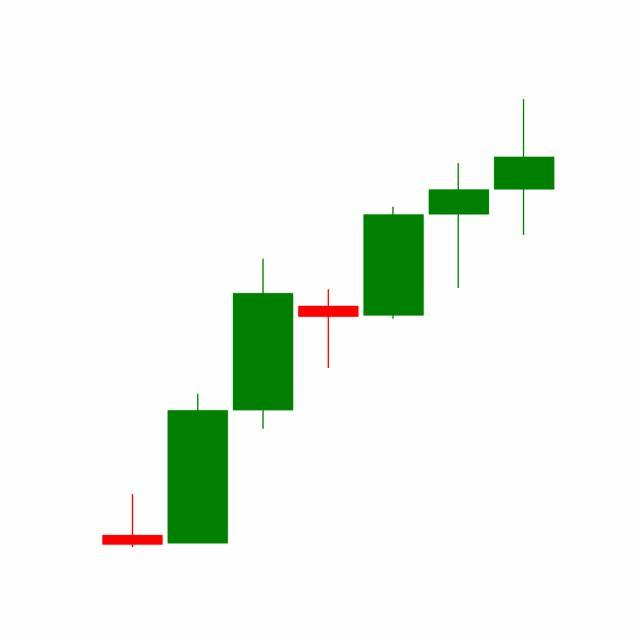Advance Block: (360, 100, 556, 324)
